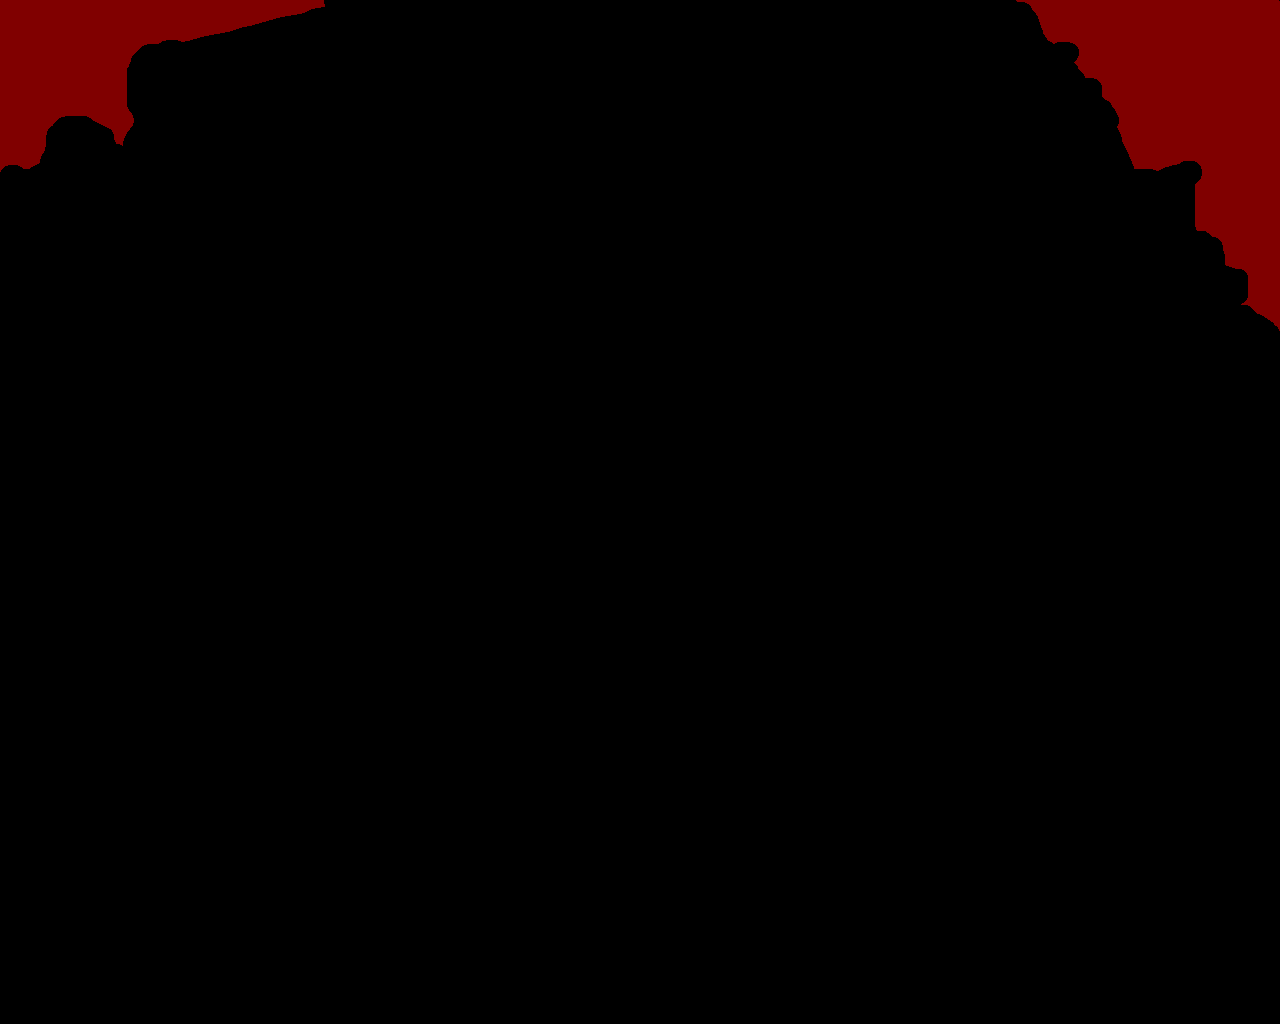Sky: (1, 1, 1279, 331)
